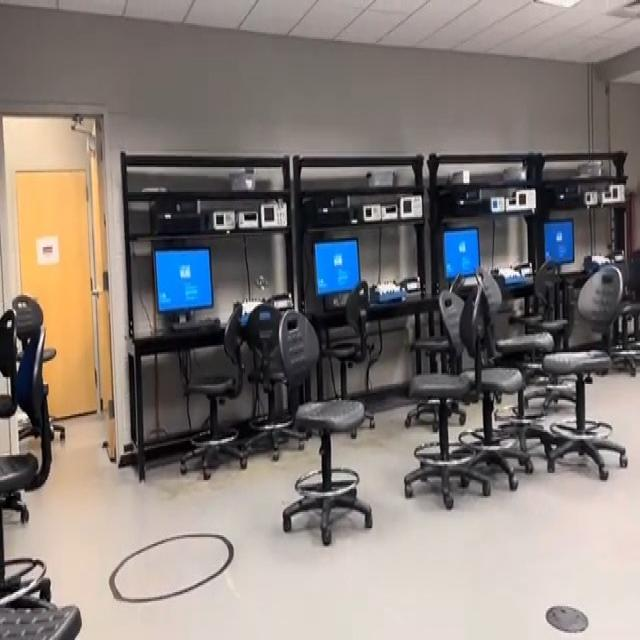drone: (246, 261, 278, 300)
